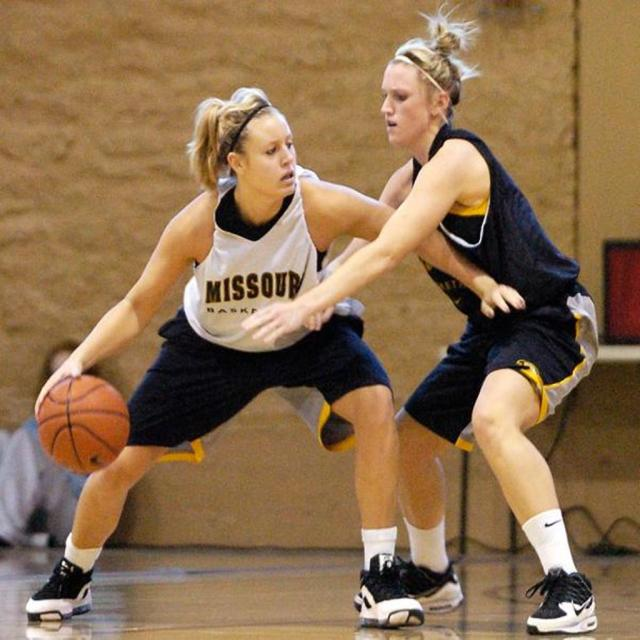Face: (229, 101, 304, 207), (373, 58, 439, 153)
